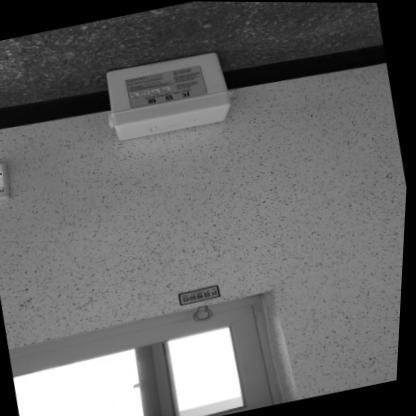DDL: (96, 44, 240, 144)
